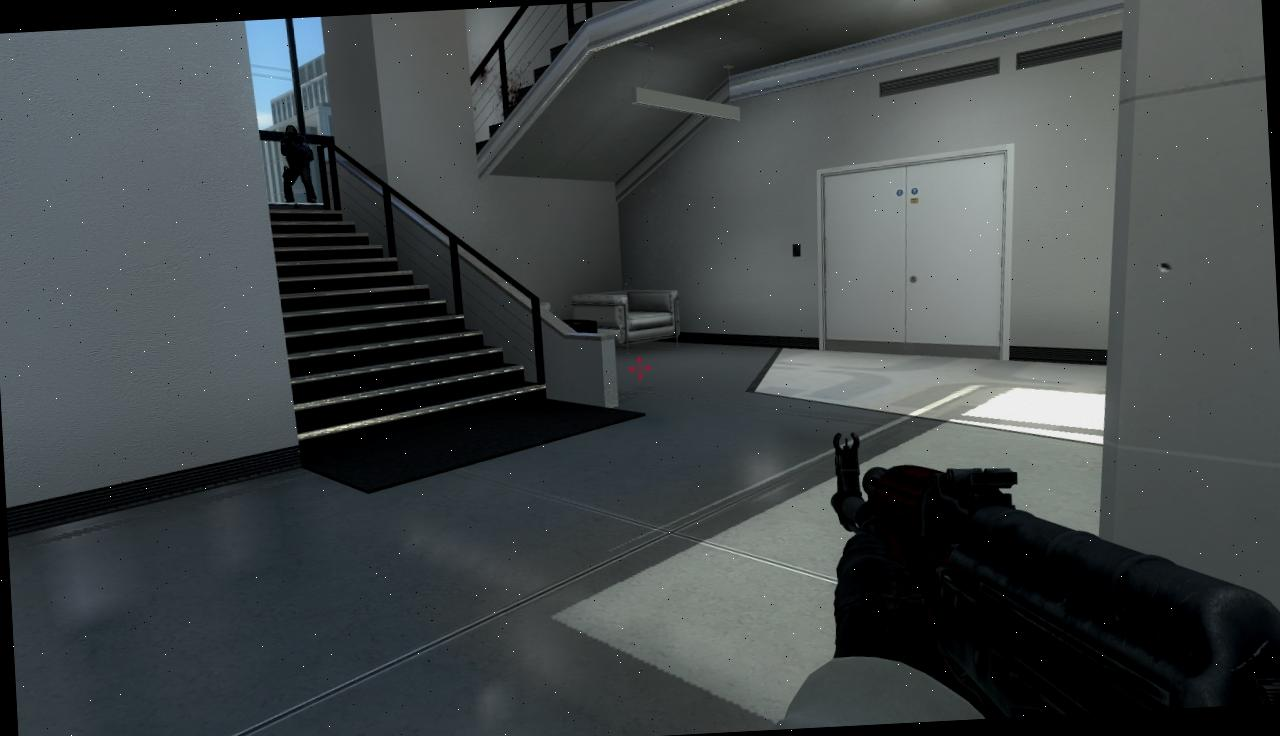ct: (280, 124, 317, 204)
cthead: (284, 124, 298, 137)
rifle: (826, 407, 1280, 726)
